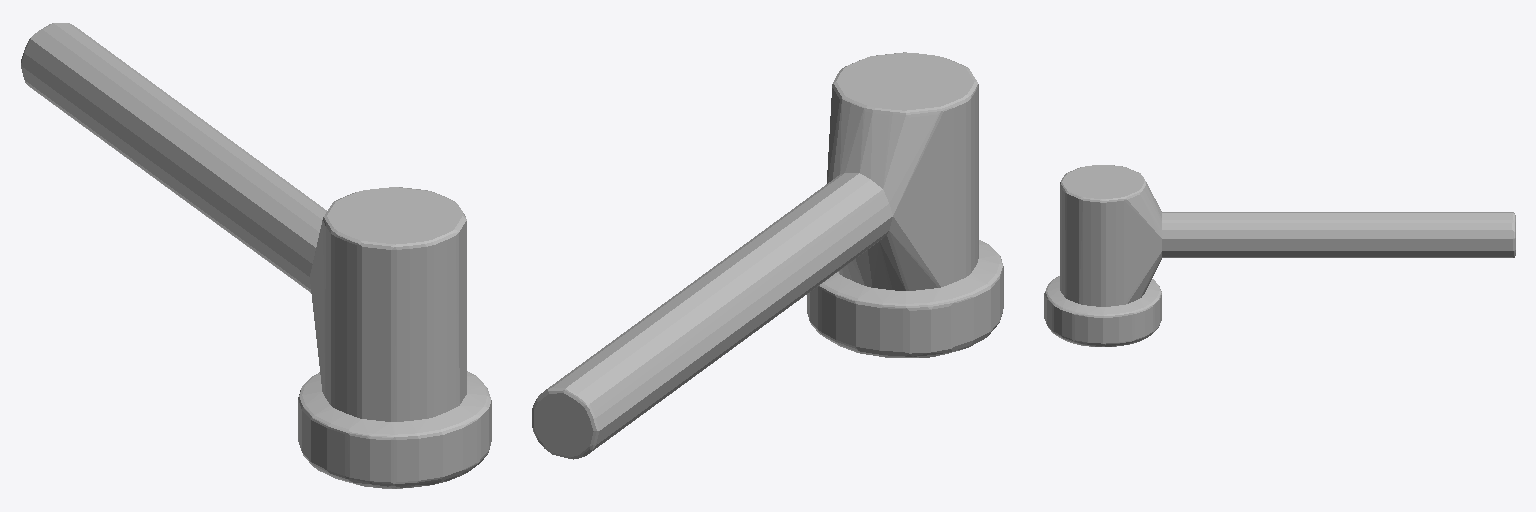
URDF robot description (root):
<robot name="root">
  <link name="link_coacd_convex_piece_0">
    <inertial>
      <origin xyz="0 0 0" rpy="0 0 0"/>
      <inertia ixx="2.28E-03" ixy="1.89E-05" ixz="-8.61E-05" iyy="2.09E-03" iyz="6.03E-04" izz="3.25E-04"/>
    </inertial>
    <visual>
      <origin xyz="0 0 0" rpy="0 0 0"/>
      <geometry>
        <mesh filename="coacd_convex_piece_0.obj" scale="1.0000E+00 1.0000E+00 1.0000E+00"/>
      </geometry>
      <material name="">
        <color rgba="7.50E-01 7.50E-01 7.50E-01 1"/>
      </material>
    </visual>
    <collision>
      <origin xyz="0 0 0" rpy="0 0 0"/>
      <geometry>
        <mesh filename="coacd_convex_piece_0.obj" scale="1.0000E+00 1.0000E+00 1.0000E+00"/>
      </geometry>
    </collision>
  </link>
  <link name="link_coacd_convex_piece_1">
    <inertial>
      <origin xyz="0 0 0" rpy="0 0 0"/>
      <inertia ixx="1.42E-02" ixy="2.56E-06" ixz="-2.24E-05" iyy="1.36E-02" iyz="-2.24E-03" izz="1.28E-03"/>
    </inertial>
    <visual>
      <origin xyz="0 0 0" rpy="0 0 0"/>
      <geometry>
        <mesh filename="coacd_convex_piece_1.obj" scale="1.0000E+00 1.0000E+00 1.0000E+00"/>
      </geometry>
      <material name="">
        <color rgba="7.50E-01 7.50E-01 7.50E-01 1"/>
      </material>
    </visual>
    <collision>
      <origin xyz="0 0 0" rpy="0 0 0"/>
      <geometry>
        <mesh filename="coacd_convex_piece_1.obj" scale="1.0000E+00 1.0000E+00 1.0000E+00"/>
      </geometry>
    </collision>
  </link>
  <joint name="link_coacd_convex_piece_1_joint" type="fixed">
    <origin xyz="0 0 0" rpy="0 0 0"/>
    <parent link="link_coacd_convex_piece_0"/>
    <child link="link_coacd_convex_piece_1"/>
  </joint>
  <link name="link_coacd_convex_piece_2">
    <inertial>
      <origin xyz="0 0 0" rpy="0 0 0"/>
      <inertia ixx="9.20E-03" ixy="-3.84E-08" ixz="-2.29E-05" iyy="8.22E-03" iyz="3.72E-03" izz="1.58E-03"/>
    </inertial>
    <visual>
      <origin xyz="0 0 0" rpy="0 0 0"/>
      <geometry>
        <mesh filename="coacd_convex_piece_2.obj" scale="1.0000E+00 1.0000E+00 1.0000E+00"/>
      </geometry>
      <material name="">
        <color rgba="7.50E-01 7.50E-01 7.50E-01 1"/>
      </material>
    </visual>
    <collision>
      <origin xyz="0 0 0" rpy="0 0 0"/>
      <geometry>
        <mesh filename="coacd_convex_piece_2.obj" scale="1.0000E+00 1.0000E+00 1.0000E+00"/>
      </geometry>
    </collision>
  </link>
  <joint name="link_coacd_convex_piece_2_joint" type="fixed">
    <origin xyz="0 0 0" rpy="0 0 0"/>
    <parent link="link_coacd_convex_piece_1"/>
    <child link="link_coacd_convex_piece_2"/>
  </joint>
</robot>

--- Facts derived from the render (not from the file) ---
Views: 3 orthographic renders of the robot side by side, from view 1: azimuth 30°, elevation 25°; view 2: azimuth 150°, elevation 25°; view 3: azimuth 270°, elevation 25°.
Model root with 3 links and 2 joints (2 fixed), rooted at link_coacd_convex_piece_0, posed all joints at 0.
Links seen in each view (by area): view 1: link_coacd_convex_piece_1, link_coacd_convex_piece_0, link_coacd_convex_piece_2; view 2: link_coacd_convex_piece_0, link_coacd_convex_piece_1, link_coacd_convex_piece_2; view 3: link_coacd_convex_piece_0, link_coacd_convex_piece_1, link_coacd_convex_piece_2.
Boxes of the visible links, bbox=[...] form: link_coacd_convex_piece_1: bbox=[310, 187, 466, 421]; link_coacd_convex_piece_0: bbox=[21, 23, 326, 292]; link_coacd_convex_piece_2: bbox=[298, 371, 491, 488]; link_coacd_convex_piece_0: bbox=[532, 173, 892, 459]; link_coacd_convex_piece_1: bbox=[827, 52, 978, 290]; link_coacd_convex_piece_2: bbox=[807, 240, 1003, 357]; link_coacd_convex_piece_0: bbox=[1162, 212, 1515, 257]; link_coacd_convex_piece_1: bbox=[1060, 165, 1161, 306]; link_coacd_convex_piece_2: bbox=[1044, 276, 1161, 346].
Size in the robot's own frame: 0.4683 by 1.87 by 0.6312 metres.
3 mesh visuals loaded from 3 distinct referenced files (3 OBJ).
